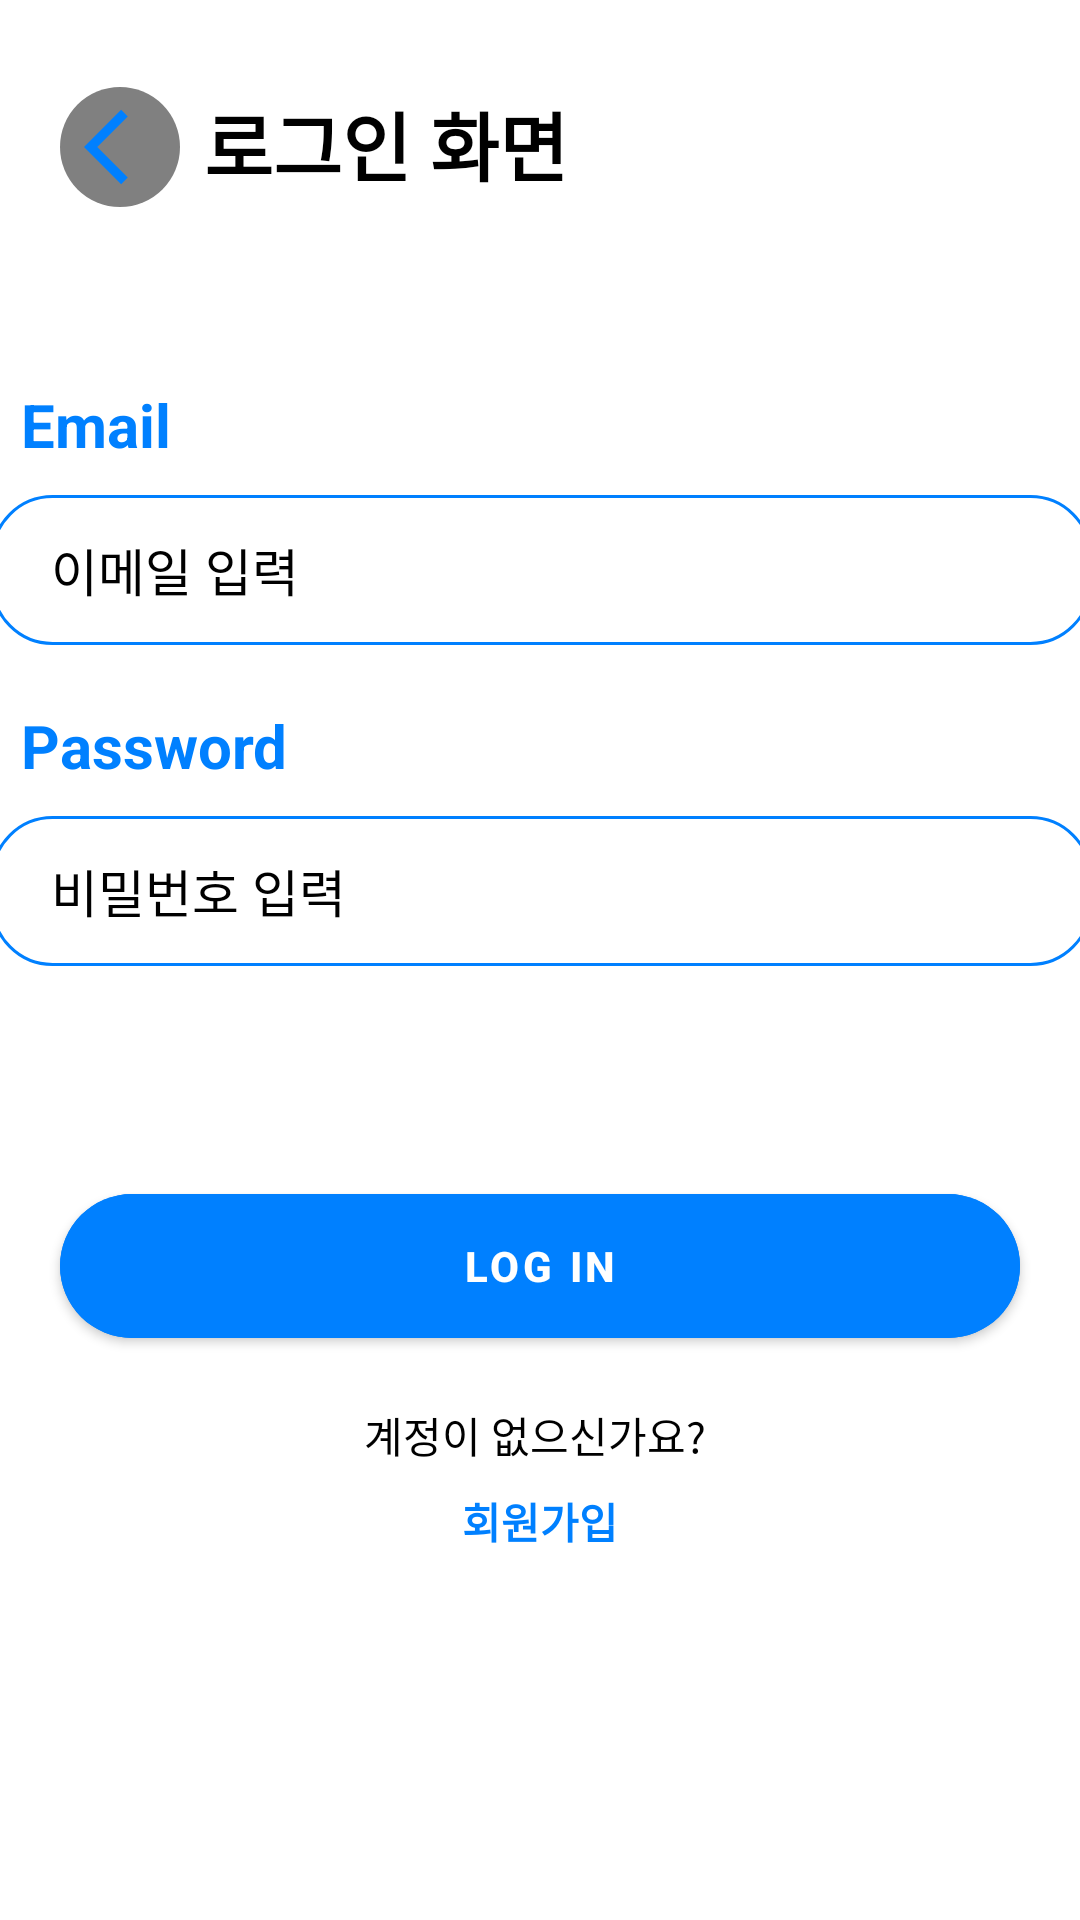

Where to tap for icons on this 1080 x 1920 app screen, as [x,y]:
arrow back: [106,147]
